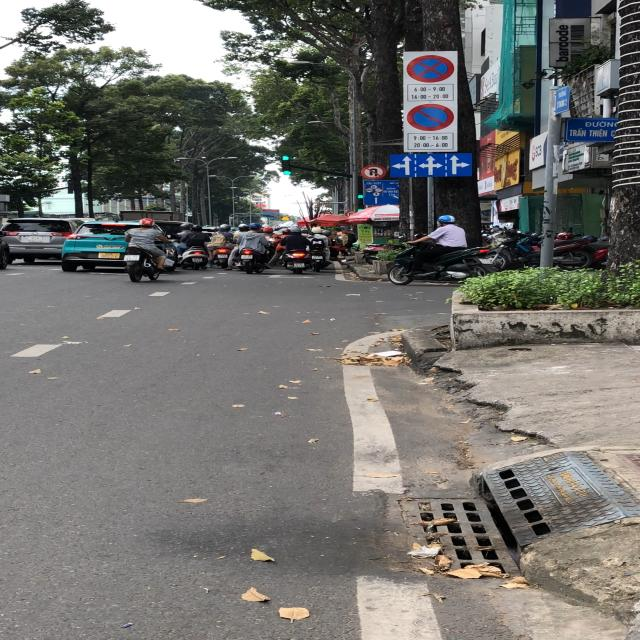Bien bao cam do xe: (404, 103, 457, 132)
Bien bao cam dung xe va do xe: (405, 52, 456, 84)
Bien bao cam quay dau xe: (357, 162, 389, 180)
